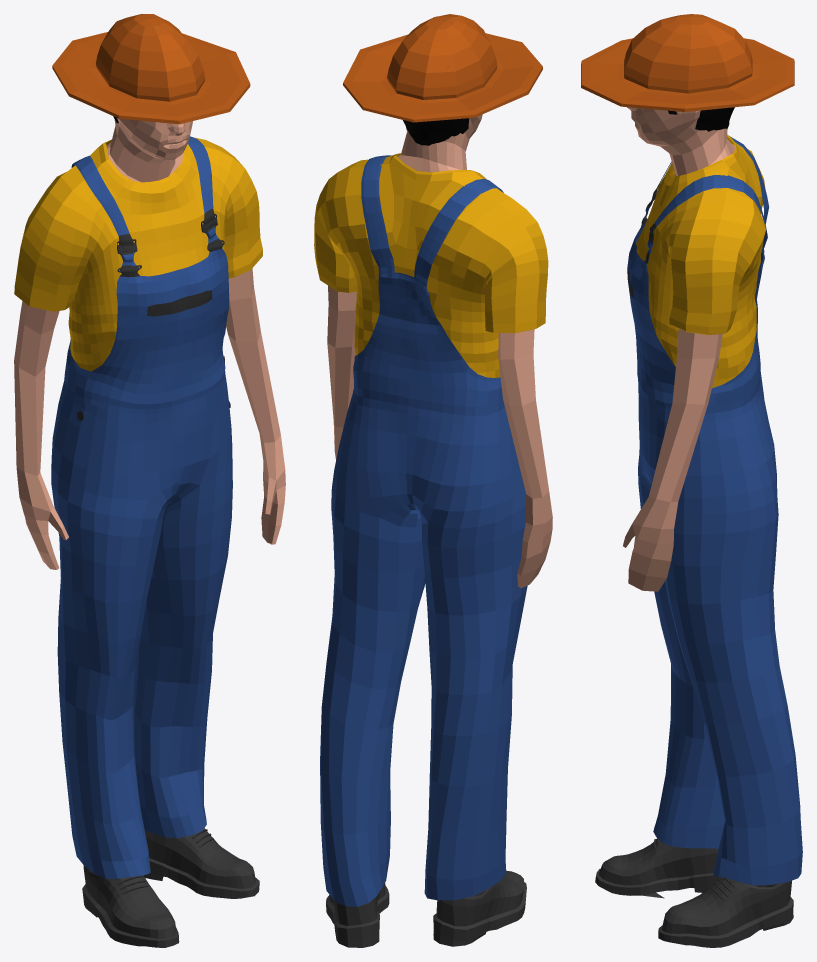
Rendered from tng_farmer.glb.
3 renders of one model, left to right at view 1: azimuth 30°, elevation 25°; view 2: azimuth 150°, elevation 25°; view 3: azimuth 270°, elevation 25°, orthographic. The views are drawn at different scales.
Parts seen in each view (by area): view 1: FarmerMan; view 2: FarmerMan; view 3: FarmerMan.
Boxes of the visible parts, bbox=[...] form: FarmerMan: bbox=[14, 14, 285, 947]; FarmerMan: bbox=[314, 14, 552, 947]; FarmerMan: bbox=[581, 14, 802, 947].
Bounding box in the file's own units: 0.507 × 1.84 × 0.4201.
